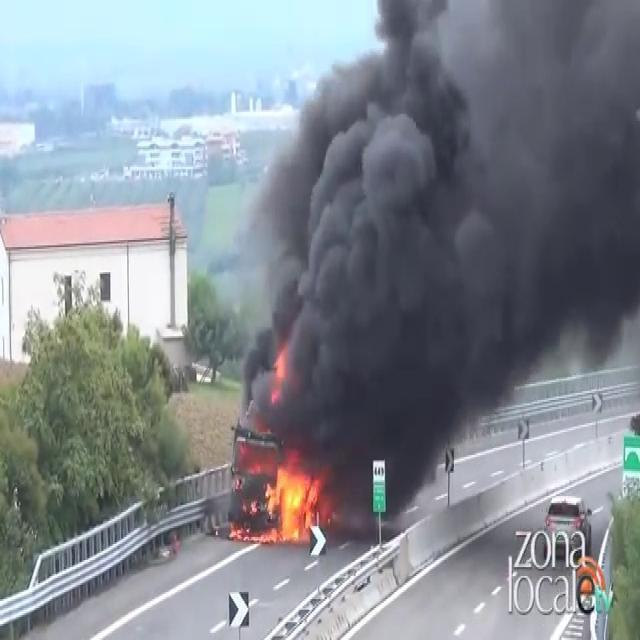Fire: (259, 457, 324, 542)
Smoke: (237, 1, 640, 477)
